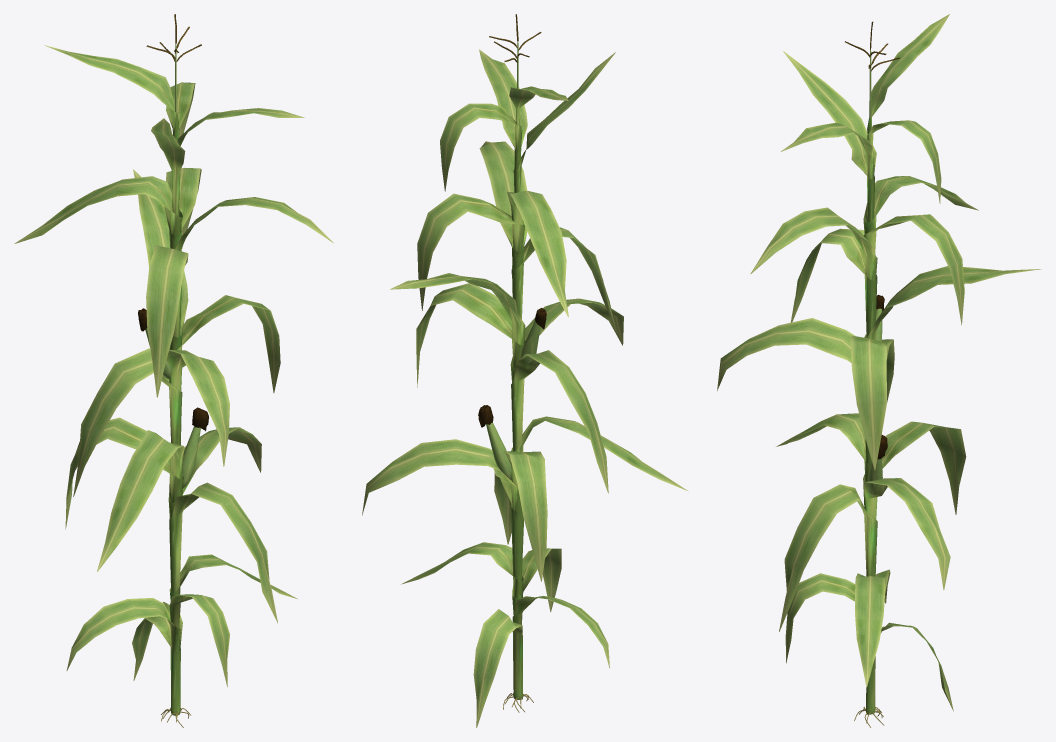
File: corn.dae
The picture shows the model from 3 angles, left to right: view 1: azimuth 30°, elevation 25°; view 2: azimuth 150°, elevation 25°; view 3: azimuth 270°, elevation 25°; orthographic projection.
Visible parts, largest first — view 1: Plane.013, Plane.016, Plane.020, Plane.012, Plane.019, Plane.021, Plane.011, Plane.018, Plane.017, Plane.025, Plane.008, Plane.014 (+9 smaller); view 2: Plane.016, Plane.015, Plane.021, Plane.008, Plane.014, Plane.022, Plane.018, Plane.023, Plane.026, Plane.027, Plane.017, Plane.012 (+9 smaller); view 3: Plane.012, Plane.018, Plane.019, Plane.024, Plane.014, Plane.015, Plane.009, Plane.023, Plane.020, Plane.022, Plane.017, Plane.025 (+6 smaller).
Part boxes in pixels (x1,y1,x2,y2): Plane.013: (97, 430, 183, 571); Plane.016: (73, 348, 182, 496); Plane.020: (146, 245, 188, 397); Plane.012: (169, 482, 277, 623); Plane.019: (166, 350, 229, 466); Plane.021: (14, 176, 182, 243); Plane.011: (66, 598, 180, 670); Plane.018: (169, 295, 280, 392); Plane.017: (133, 169, 188, 349); Plane.025: (44, 45, 179, 131); Plane.008: (132, 602, 182, 715); Plane.014: (65, 417, 183, 529); Plane.016: (511, 350, 608, 493); Plane.015: (362, 439, 521, 515); Plane.021: (507, 190, 568, 317); Plane.008: (473, 609, 523, 727); Plane.014: (504, 451, 547, 581); Plane.022: (417, 193, 524, 310); Plane.018: (416, 283, 525, 387); Plane.023: (479, 141, 527, 269); Plane.026: (440, 103, 521, 191); Plane.027: (479, 49, 527, 170); Plane.017: (390, 273, 525, 345); Plane.012: (494, 473, 523, 581); Plane.012: (779, 484, 877, 631); Plane.018: (850, 335, 886, 470); Plane.019: (717, 318, 855, 390); Plane.024: (783, 51, 876, 222); Plane.014: (863, 421, 966, 514); Plane.015: (863, 478, 950, 589); Plane.009: (855, 573, 885, 687); Plane.023: (750, 207, 877, 280); Plane.020: (790, 228, 877, 336); Plane.022: (863, 214, 964, 325); Plane.017: (864, 266, 1041, 340); Plane.025: (867, 14, 949, 134).
Size of the model in its own units: 0.9752 by 1.11 by 2.65.
